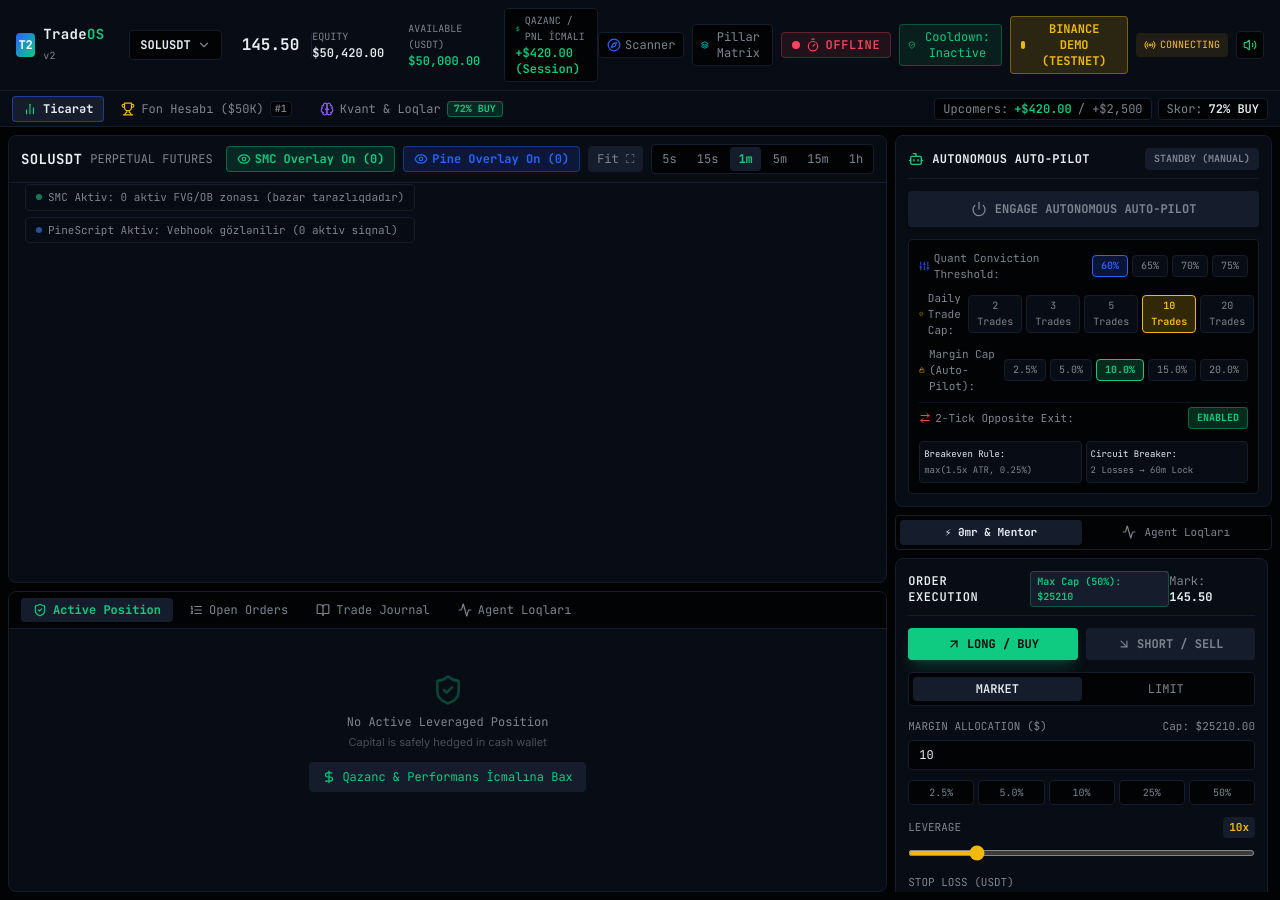
Scenario: App 3-View Multi-Workspace Layout › switches to PROPFIRM view with history table open by default and TradeJournalPanel, while keeping right rail mounted
Click the button with test id "workspace-tab-PROPFIRM".
click(207, 108)  # box x1=110 y1=96 x2=303 y2=122
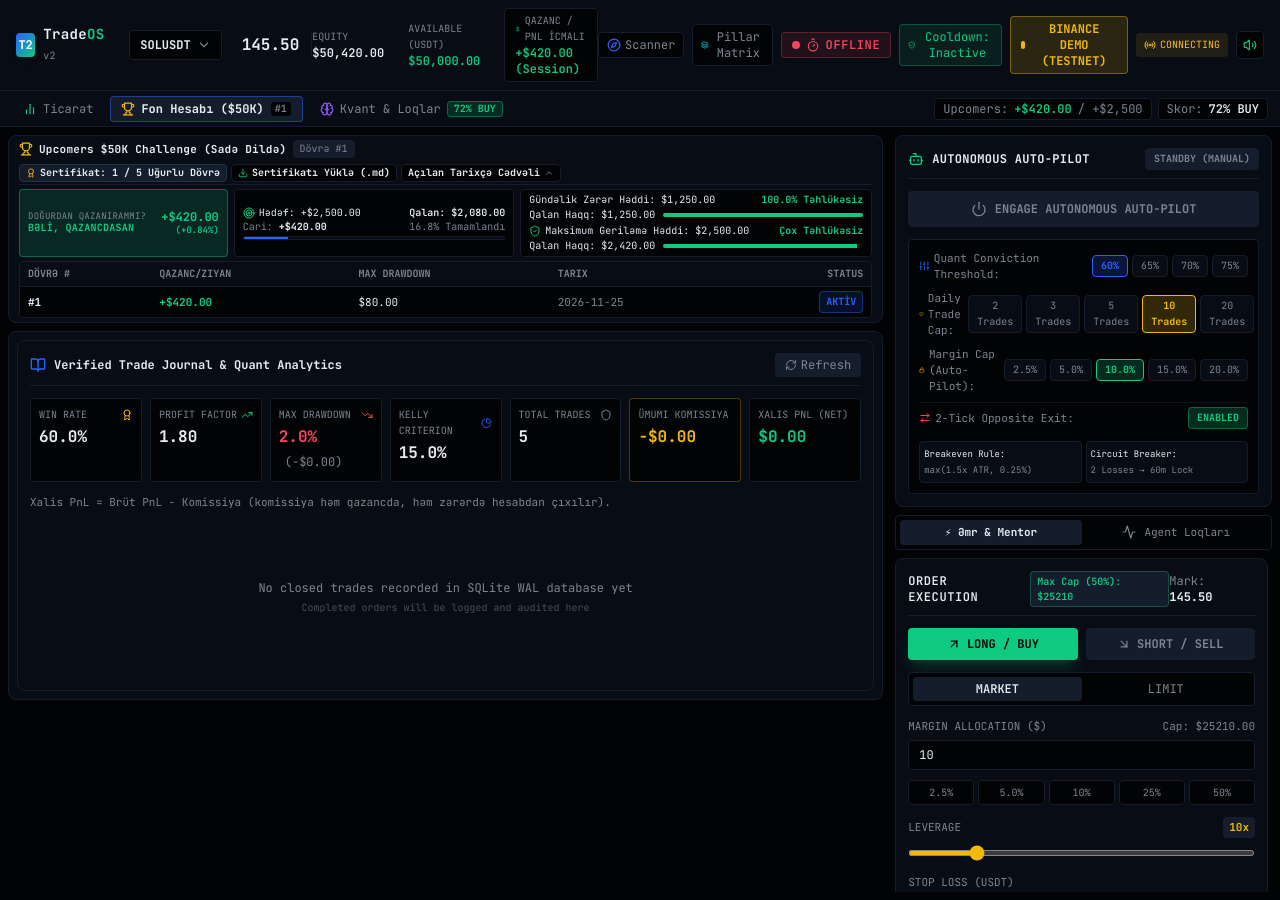
Result: the element with test id "workspace-view-PROPFIRM" is shown at x1=8 y1=135 x2=887 y2=892
Result: the element with test id "propfirm-challenge-hud" is shown at x1=8 y1=135 x2=883 y2=323
Result: the element with test id "propfirm-history-table" is shown at x1=19 y1=261 x2=872 y2=318
